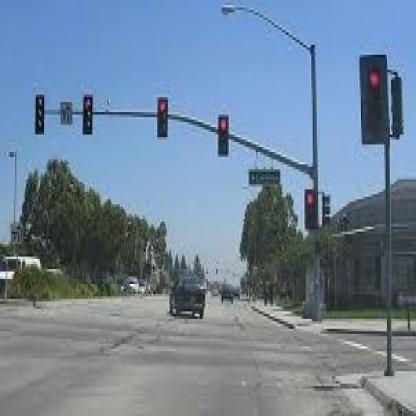Traffic Signal: (156, 98, 170, 140), (217, 116, 230, 157), (82, 92, 94, 136), (305, 189, 318, 228), (33, 94, 45, 132)
